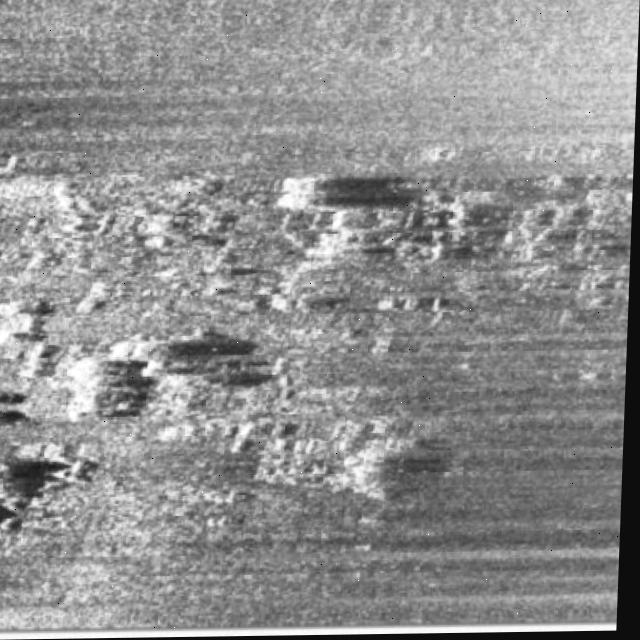bedrock group: (0, 147, 634, 563)
